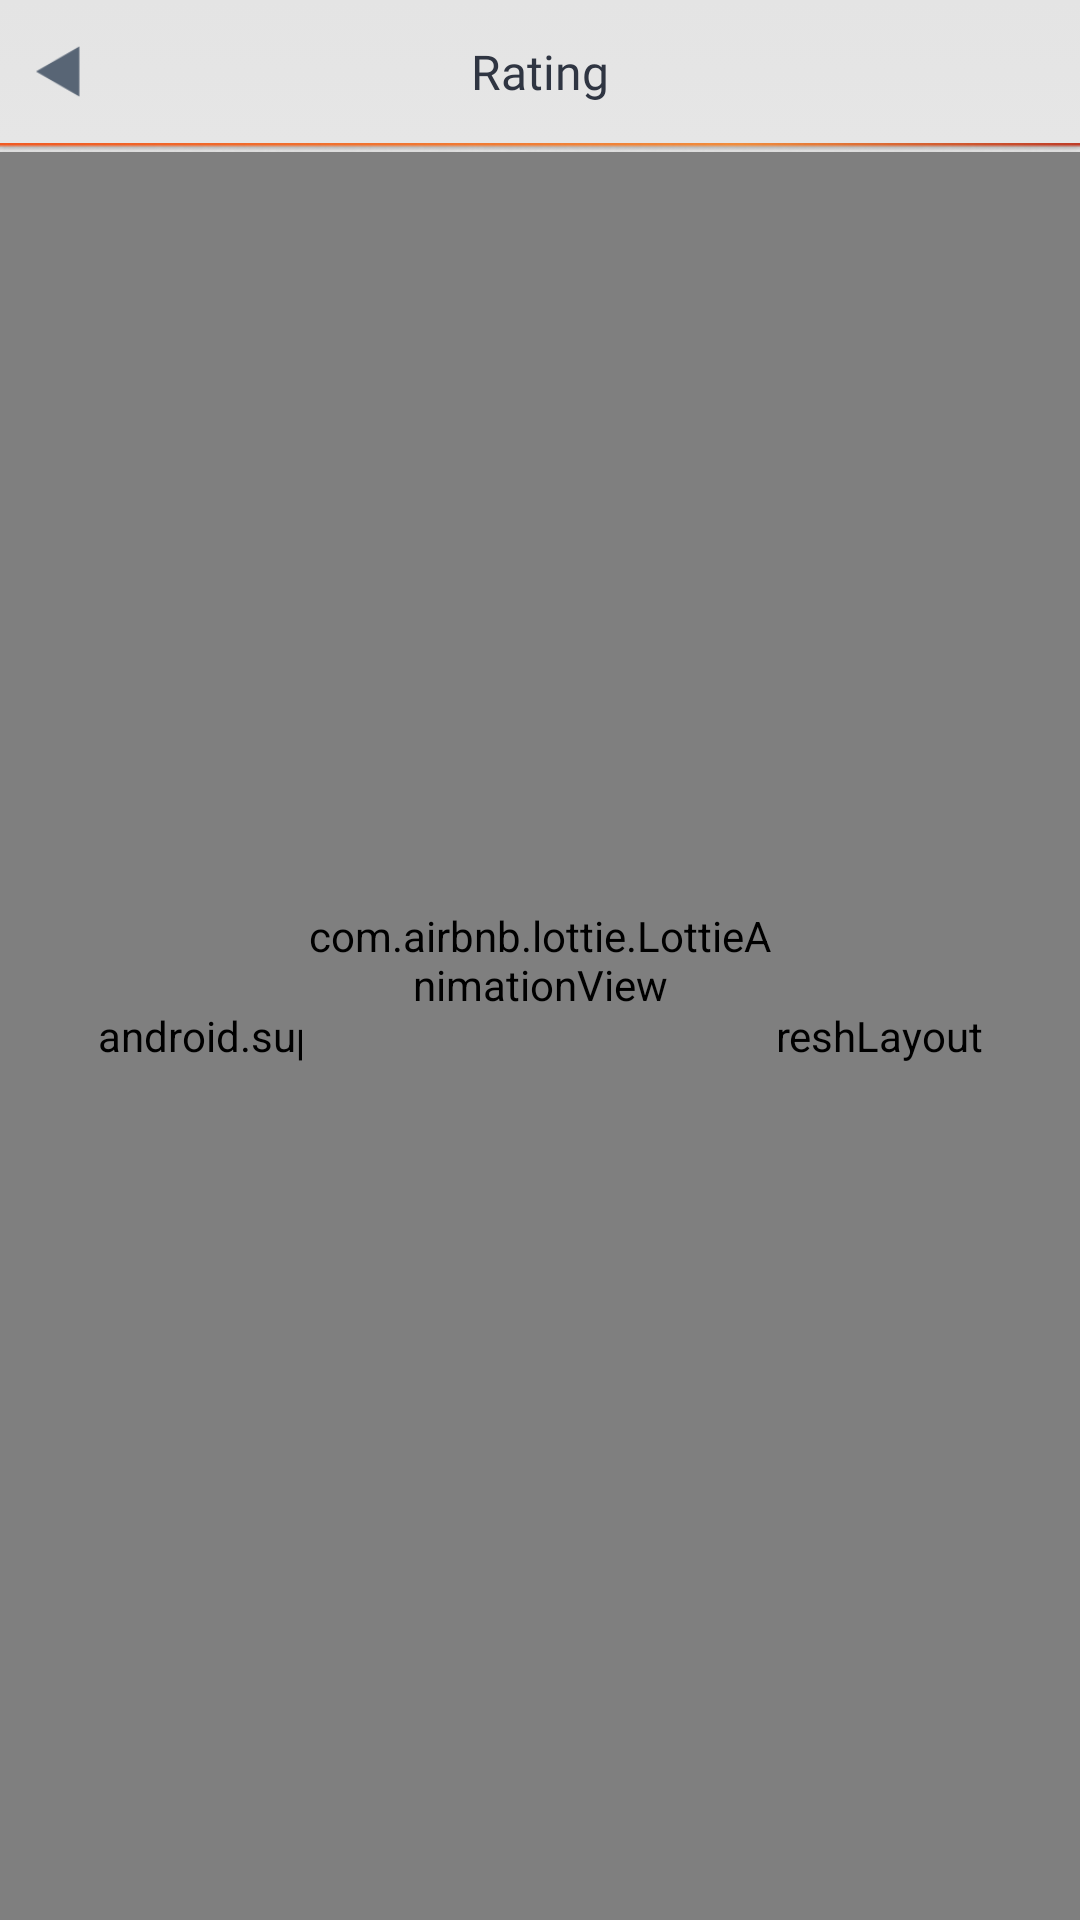

Where icons sit on this 1080 × 1920 app screen, as BBox(x1, y1, x2, y2):
setting back: BBox(36, 47, 80, 96)
